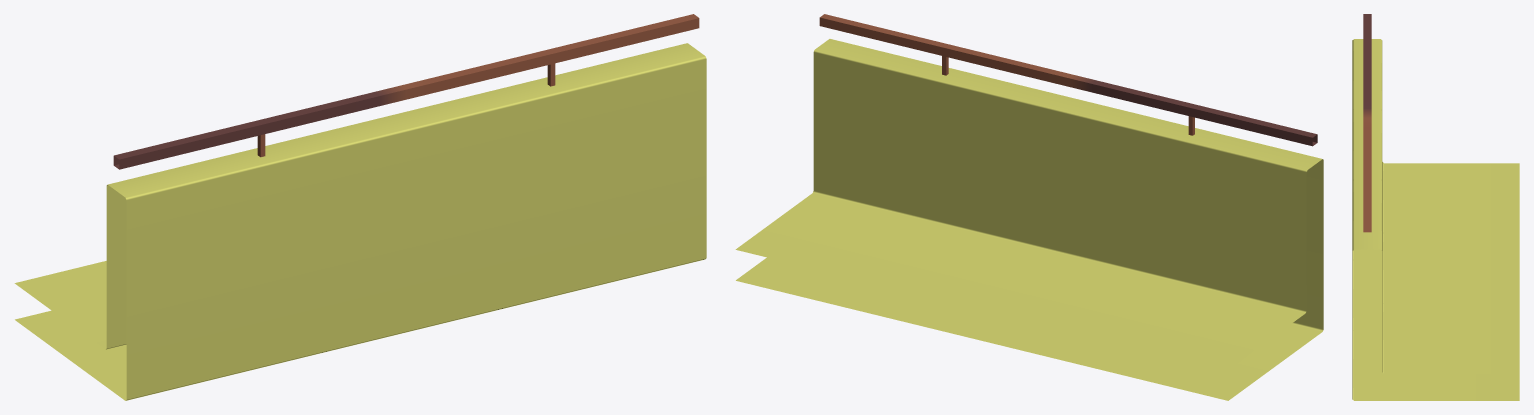
The model's file is DBK_Balcony_С.fbx.
3 views of the same model, side by side, from view 1: azimuth 30°, elevation 25°; view 2: azimuth 150°, elevation 25°; view 3: azimuth 270°, elevation 25° (orthographic). The views are drawn at different scales.
Parts seen in each view (by area): view 1: DBK_Balcony_С, DBK_Balcony_С_Metal; view 2: DBK_Balcony_С, DBK_Balcony_С_Metal; view 3: DBK_Balcony_С, DBK_Balcony_С_Metal.
Part boxes in pixels (x1,y1,x2,y2): DBK_Balcony_С: [14, 43, 706, 400]; DBK_Balcony_С_Metal: [113, 14, 699, 169]; DBK_Balcony_С: [735, 39, 1323, 400]; DBK_Balcony_С_Metal: [819, 14, 1317, 146]; DBK_Balcony_С: [1352, 39, 1519, 400]; DBK_Balcony_С_Metal: [1363, 14, 1371, 232].
Size of the model in its own units: 300 by 117 by 101.
